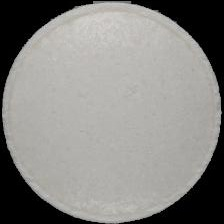68788-9135: (0, 0, 224, 224)
